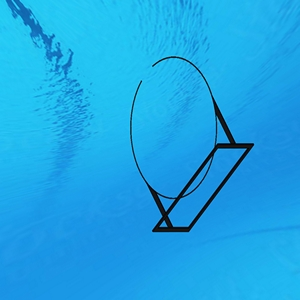circle: (128, 54, 254, 233)
